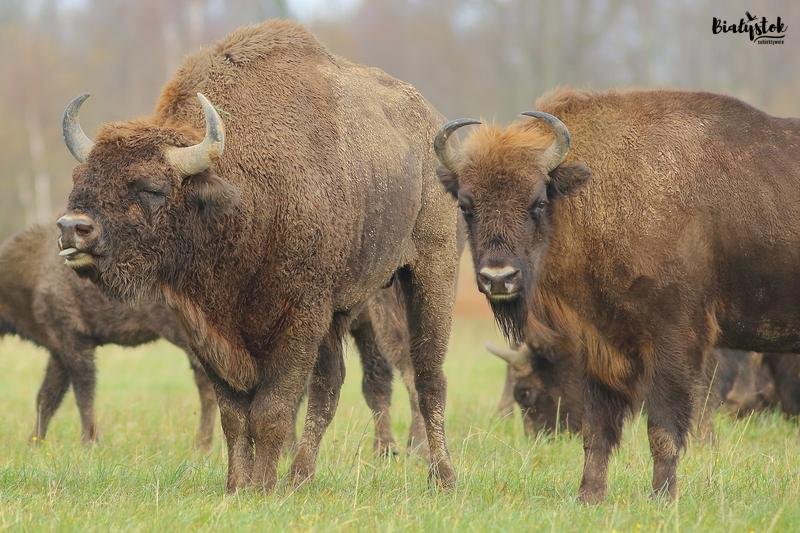zubr: (39, 1, 487, 533), (424, 49, 800, 515)
